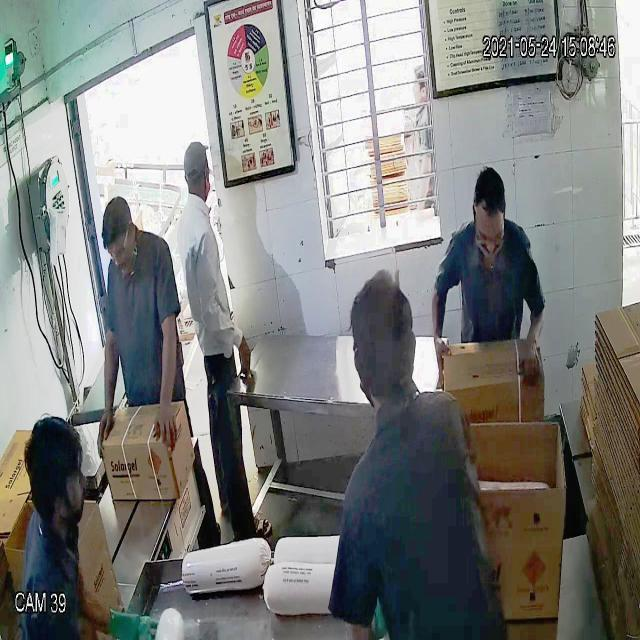glasses: (470, 215, 506, 253), (105, 231, 134, 261)
